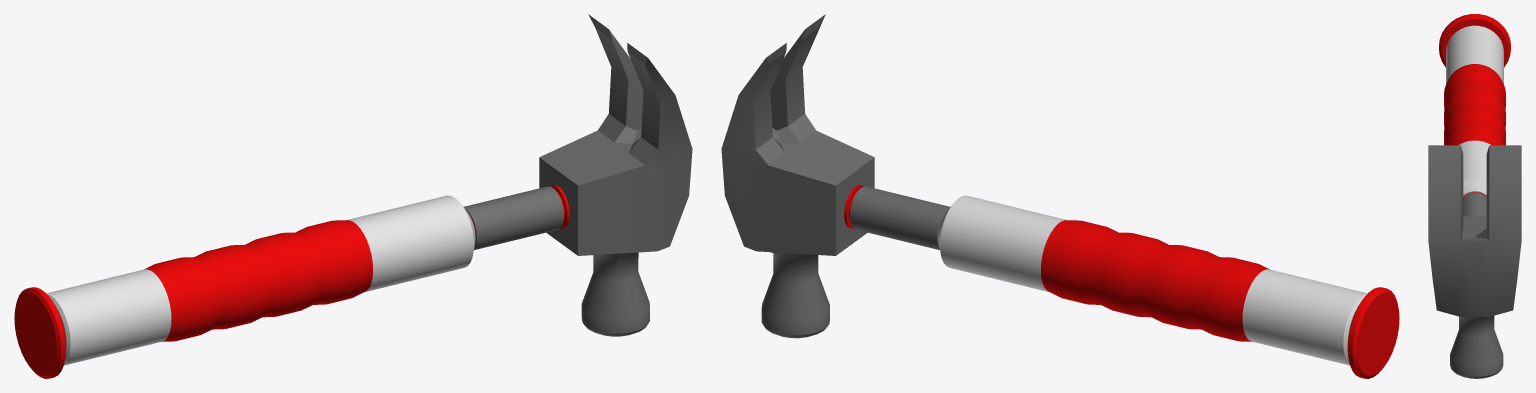
Rendered from Ordinary Hammer.fbx.
The picture shows the model from 3 angles, left to right: view 1: azimuth 30°, elevation 25°; view 2: azimuth 150°, elevation 25°; view 3: azimuth 270°, elevation 25°; orthographic projection. The views are drawn at different scales.
Visible parts, largest first — view 1: hammer_mesh; view 2: hammer_mesh; view 3: hammer_mesh.
Part boxes in pixels (x1,y1,x2,y2): hammer_mesh: (14,14,692,378); hammer_mesh: (721,14,1399,378); hammer_mesh: (1428,14,1521,378).
Bounding box in the file's own units: 7.63 × 3.35 × 1.26.
